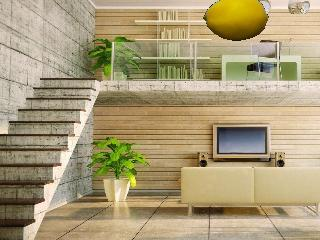lemon: (203, 0, 268, 42)
